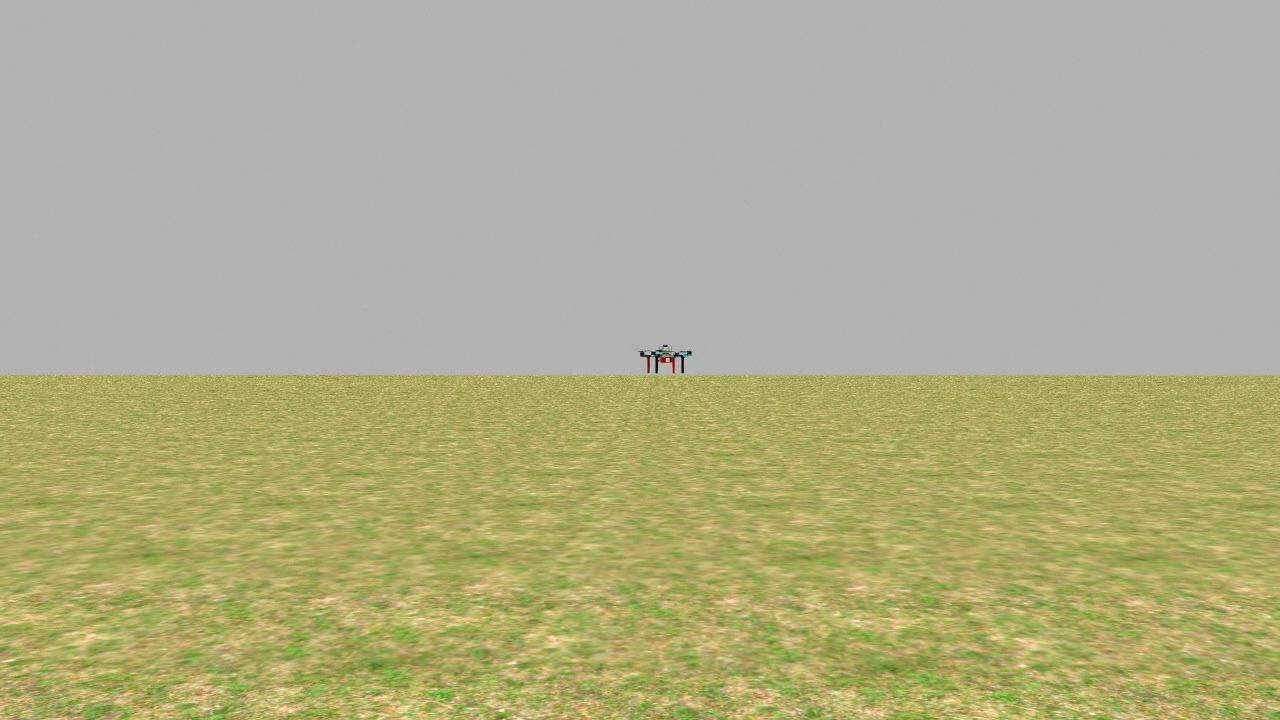UAV: (633, 331, 698, 379)
